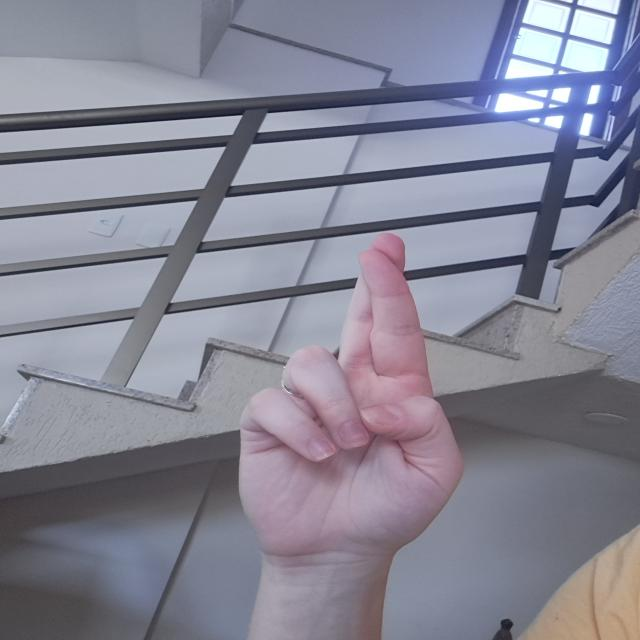R: (220, 227, 478, 563)
